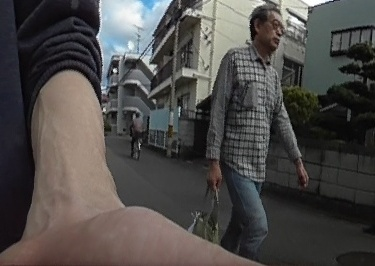person: (208, 2, 291, 252), (130, 108, 143, 149)
